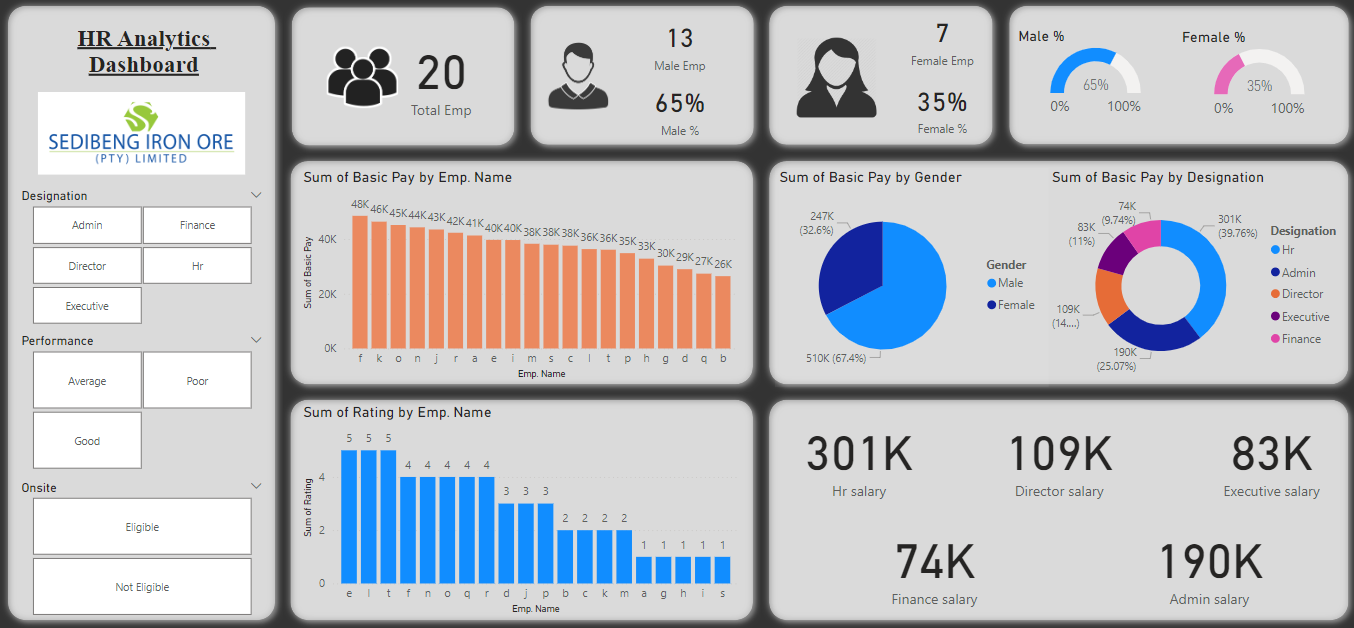

The page's visual inventory and layout, read from the dashboard file:
{"tool":"powerbi","page":{"name":"Page 1","canvas":[1550,720],"ordinal":0},"visuals":[{"type":"shape","box":[0,0,323.3,720],"z":0},{"type":"shape","box":[323.8,1.2,272.5,176.2],"z":1000},{"type":"shape","box":[596.7,0,273.3,176.7],"z":2000},{"type":"shape","box":[870,0,273.3,176.7],"z":3000},{"type":"shape","box":[1143.8,0,406.2,176.2],"z":4000},{"type":"shape","box":[323.3,176.7,546.7,273.3],"z":5000},{"type":"shape","box":[323.3,450,546.7,270],"z":6000},{"type":"shape","box":[870,176.7,680,273.3],"z":7000},{"type":"shape","box":[870,450,680,270],"z":8000},{"type":"textbox","box":[23,26,283,129],"z":9000},{"type":"card","fields":{"Values":["Sheet1.Total Emp"]},"box":[460,33.8,88.8,110],"z":10000},{"type":"card","fields":{"Values":["Sheet1.Male Emp"]},"box":[706.2,15,142.5,73.8],"z":11000},{"type":"image","box":[368.8,43.8,91.2,92.5],"z":12000},{"type":"image","box":[905,35,101.2,110],"z":13000},{"type":"image","box":[617.5,46.2,88.8,86.2],"z":14000},{"type":"card","fields":{"Values":["Sheet1.Male %"]},"box":[706.2,90,142.5,73.8],"z":15000},{"type":"card","fields":{"Values":["Sheet1.Female Emp"]},"box":[1006.2,10,142.5,73.8],"z":16000},{"type":"card","fields":{"Values":["Sheet1.Female %"]},"box":[1006.2,88.8,142.5,73.8],"z":17000},{"type":"gauge","fields":{"Y":["Sheet1.Male %"]},"box":[1158.8,32.5,187.5,112.5],"z":18000},{"type":"gauge","fields":{"Y":["Sheet1.Female %"]},"box":[1346.2,33.8,187.5,112.5],"z":19000},{"type":"clusteredColumnChart","fields":{"Category":["Sheet1.Emp. Name"],"Y":["Sum(Sheet1.Basic Pay)"]},"box":[341.2,193.8,507.5,246.2],"z":20000},{"type":"clusteredColumnChart","fields":{"Category":["Sheet1.Emp. Name"],"Y":["Sum(Sheet1.Rating)"]},"box":[341.2,462.5,507.5,246.2],"z":21000},{"type":"pieChart","fields":{"Category":["Sheet1.Gender"],"Y":["Sum(Sheet1.Basic Pay)"]},"box":[885,193.8,312.5,250],"z":22000},{"type":"donutChart","fields":{"Y":["Sum(Sheet1.Basic Pay)"],"Category":["Sheet1.Designation"]},"box":[1197.5,193.8,352.5,250],"z":23000},{"type":"card","fields":{"Values":["Sheet1.Hr salary"]},"box":[885,462.5,192.5,123.8],"z":24000},{"type":"card","fields":{"Values":["Sheet1.Finance salary"]},"box":[938.8,586.2,258.8,123.8],"z":25000},{"type":"card","fields":{"Values":["Sheet1.Admin salary"]},"box":[1252.5,585,258.8,123.8],"z":26000},{"type":"card","fields":{"Values":["Sheet1.Director salary"]},"box":[1113.8,462.5,192.5,123.8],"z":27000},{"type":"card","fields":{"Values":["Sheet1.Executive salary"]},"box":[1357.5,462.5,192.5,123.8],"z":28000},{"type":"slicer","fields":{"Values":["Sheet1.Designation"]},"box":[11.2,212.5,300,166.2],"z":29000},{"type":"slicer","fields":{"Values":["Sheet1.Performance"]},"box":[11.2,378.8,300,166.2],"z":30000},{"type":"slicer","fields":{"Values":["Sheet1.Onsite"]},"box":[11.2,545,300,166.2],"z":31000},{"type":"image","box":[38.3,31.7,246.7,246.7],"z":32000}]}

Visuals, with their boxes in screenshot pixels (x1, y1, x2, y2), scaled from the page's 1550x720 canvas onto the 1354x628 screenshot:
shape: bbox=(0, 0, 282, 627)
shape: bbox=(283, 1, 521, 155)
shape: bbox=(521, 0, 760, 154)
shape: bbox=(760, 0, 999, 154)
shape: bbox=(999, 0, 1353, 154)
shape: bbox=(282, 154, 760, 392)
shape: bbox=(282, 392, 760, 627)
shape: bbox=(760, 154, 1353, 392)
shape: bbox=(760, 392, 1353, 627)
textbox: bbox=(20, 23, 267, 135)
card - Sheet1.Total Emp: bbox=(402, 29, 479, 125)
card - Sheet1.Male Emp: bbox=(617, 13, 741, 77)
image: bbox=(322, 38, 402, 119)
image: bbox=(791, 31, 879, 126)
image: bbox=(539, 40, 617, 115)
card - Sheet1.Male %: bbox=(617, 78, 741, 143)
card - Sheet1.Female Emp: bbox=(879, 9, 1003, 73)
card - Sheet1.Female %: bbox=(879, 77, 1003, 142)
gauge - Sheet1.Male %: bbox=(1012, 28, 1176, 126)
gauge - Sheet1.Female %: bbox=(1176, 29, 1340, 128)
clusteredColumnChart - Sheet1.Emp. Name x Sum(Sheet1.Basic Pay): bbox=(298, 169, 741, 384)
clusteredColumnChart - Sheet1.Emp. Name x Sum(Sheet1.Rating): bbox=(298, 403, 741, 618)
pieChart - Sheet1.Gender x Sum(Sheet1.Basic Pay): bbox=(773, 169, 1046, 387)
donutChart - Sum(Sheet1.Basic Pay) x Sheet1.Designation: bbox=(1046, 169, 1353, 387)
card - Sheet1.Hr salary: bbox=(773, 403, 941, 511)
card - Sheet1.Finance salary: bbox=(820, 511, 1046, 619)
card - Sheet1.Admin salary: bbox=(1094, 510, 1320, 618)
card - Sheet1.Director salary: bbox=(973, 403, 1141, 511)
card - Sheet1.Executive salary: bbox=(1186, 403, 1353, 511)
slicer - Sheet1.Designation: bbox=(10, 185, 272, 330)
slicer - Sheet1.Performance: bbox=(10, 330, 272, 475)
slicer - Sheet1.Onsite: bbox=(10, 475, 272, 620)
image: bbox=(33, 28, 249, 243)
